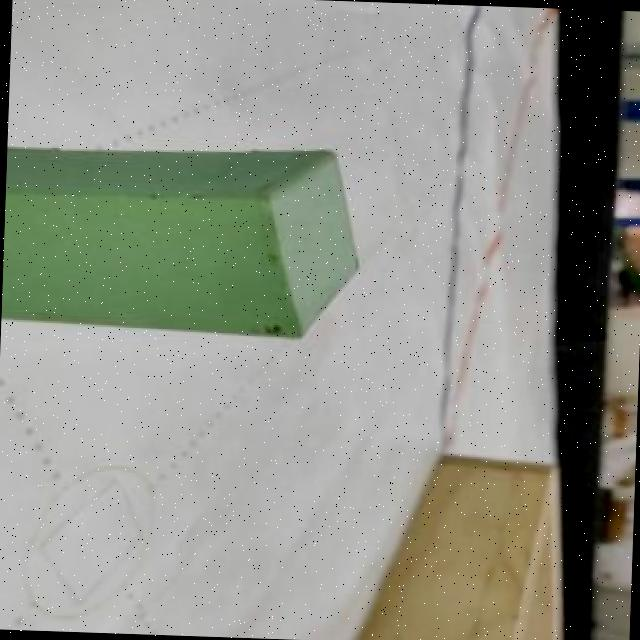greenbox: (0, 137, 369, 347)
